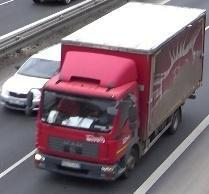car: (1, 55, 61, 115)
truck: (36, 1, 205, 182)
